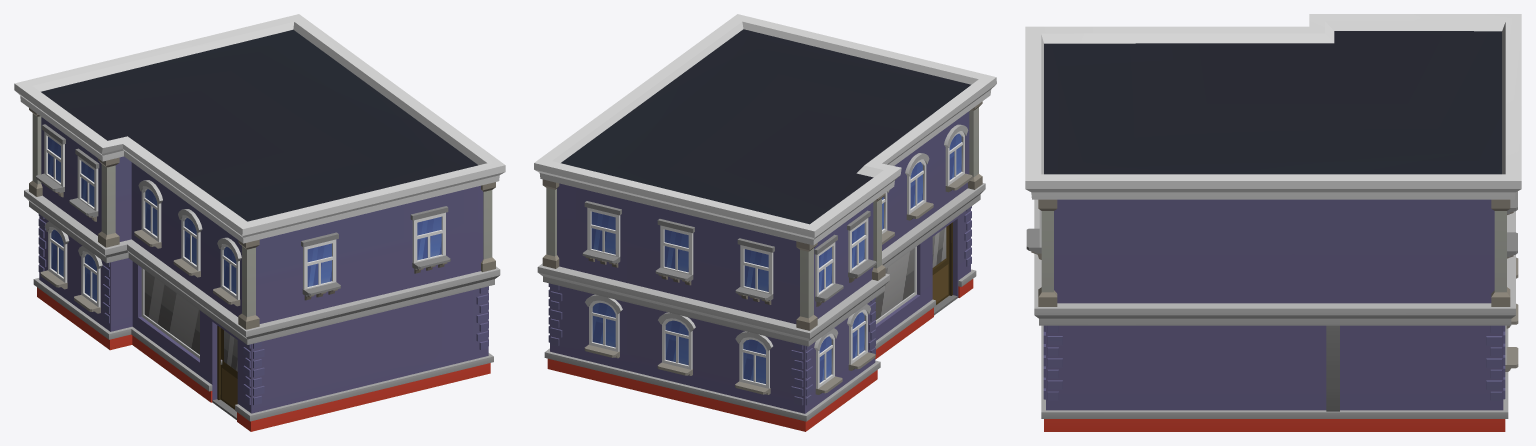
The model's file is Building_1_2_K.fbx.
The picture shows the model from 3 angles, left to right: view 1: azimuth 30°, elevation 25°; view 2: azimuth 150°, elevation 25°; view 3: azimuth 270°, elevation 25°; orthographic projection. The views are drawn at different scales.
Visible parts, largest first — view 1: Building_1_2_K; view 2: Building_1_2_K; view 3: Building_1_2_K.
Part boxes in pixels (x1=…): Building_1_2_K: x1=14, y1=14, x2=505, y2=431; Building_1_2_K: x1=534, y1=14, x2=996, y2=431; Building_1_2_K: x1=1025, y1=14, x2=1521, y2=431.
Size of the model in its own units: 841 by 600 by 1057.
